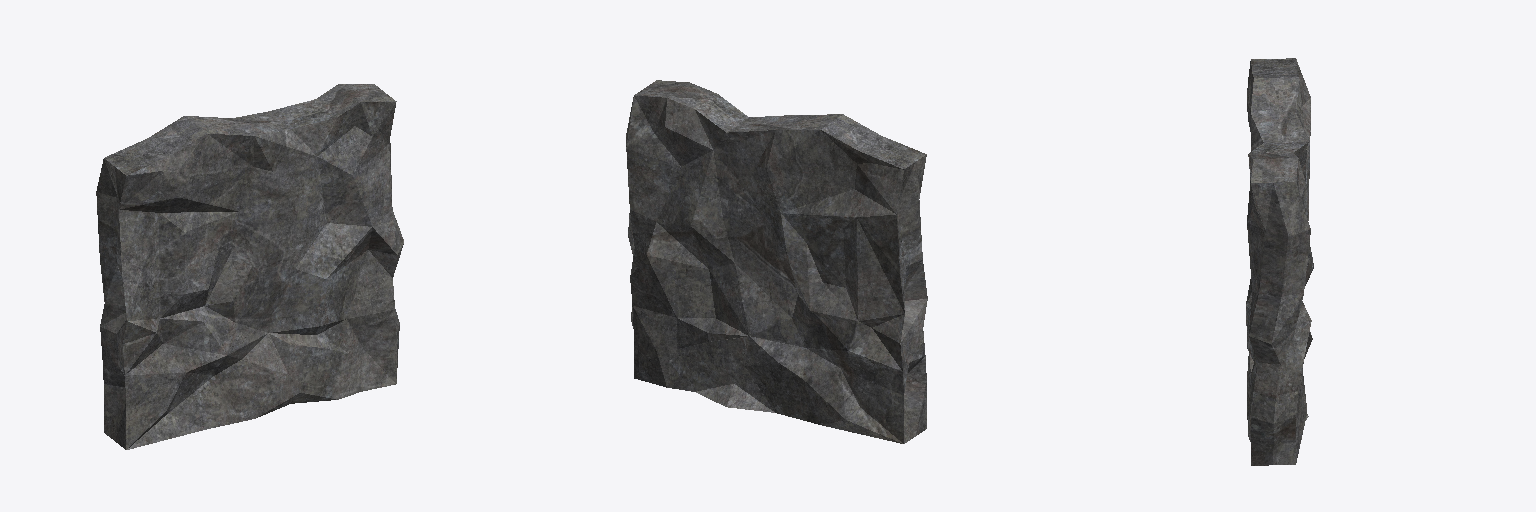
The picture shows the model from 3 angles: view 1: azimuth 30°, elevation 25°; view 2: azimuth 150°, elevation 25°; view 3: azimuth 270°, elevation 25°; orthographic projection.
Visible parts, largest first — view 1: Rock.004; view 2: Rock.004; view 3: Rock.004.
Part boxes in pixels (bbox=[...]): Rock.004: bbox=[96, 84, 403, 449]; Rock.004: bbox=[626, 80, 927, 443]; Rock.004: bbox=[1246, 58, 1313, 465].
Bounding box in the file's own units: 267 × 262 × 54.92.
Materials: 1 (1 with a texture image).